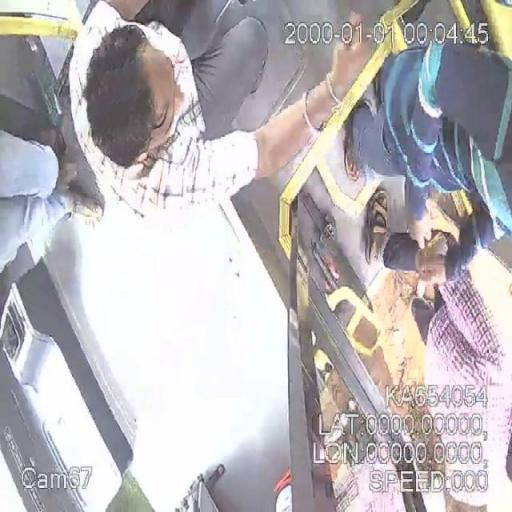persona: (67, 0, 373, 216), (341, 46, 512, 286), (397, 276, 512, 486)
